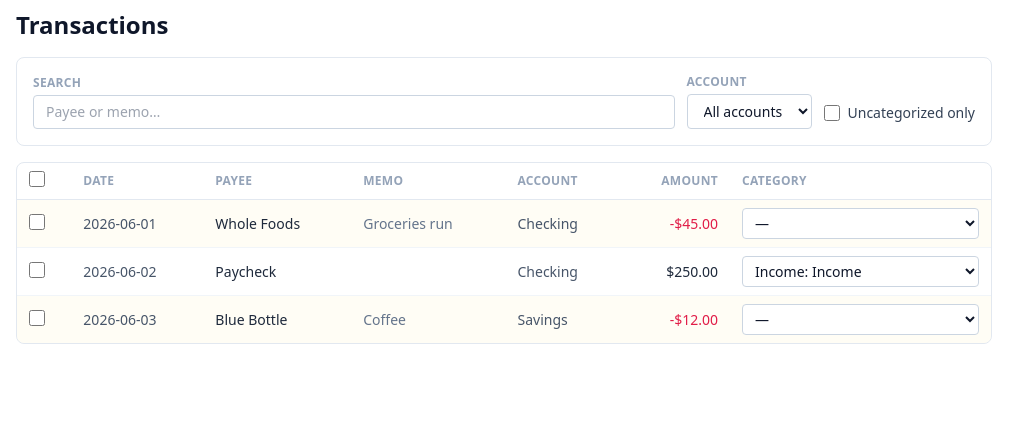
Test case: TransactionsPage › shows the bulk bar with the right count and applies a category to selected rows
expect the button "Apply to" is not shown: met
Step 1. Click the checkbox named "Select transaction t1" → (37, 222), box [29,214,45,230]
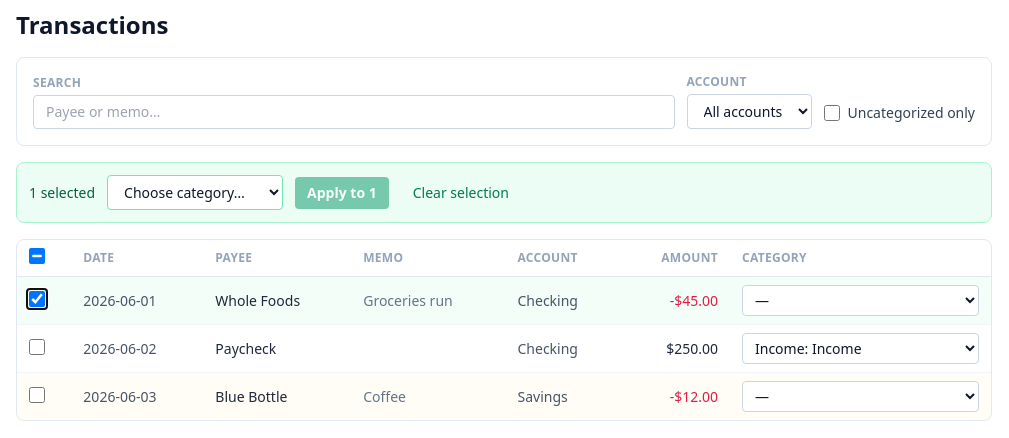
Step 2. Click the checkbox named "Select transaction t3" → (37, 394), box [29,386,45,402]
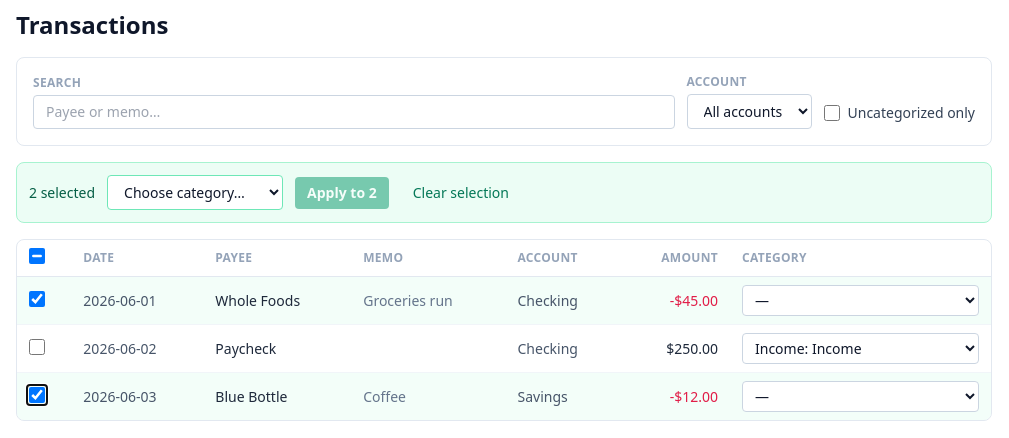
expect the text "2 selected" is shown: met, box [29,182,95,202]
# Pick a bulk category and apply.
Step 3. Select "Everyday: Groceries" in the dropdown named "Bulk category" → (195, 192), box [107,175,283,210]
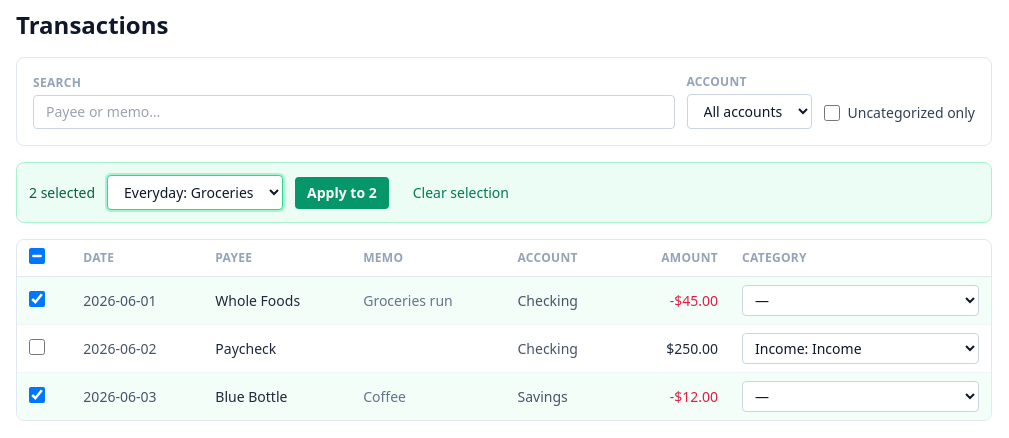
Step 4. Click the button "Apply to 2" → (342, 192), box [295,176,389,208]
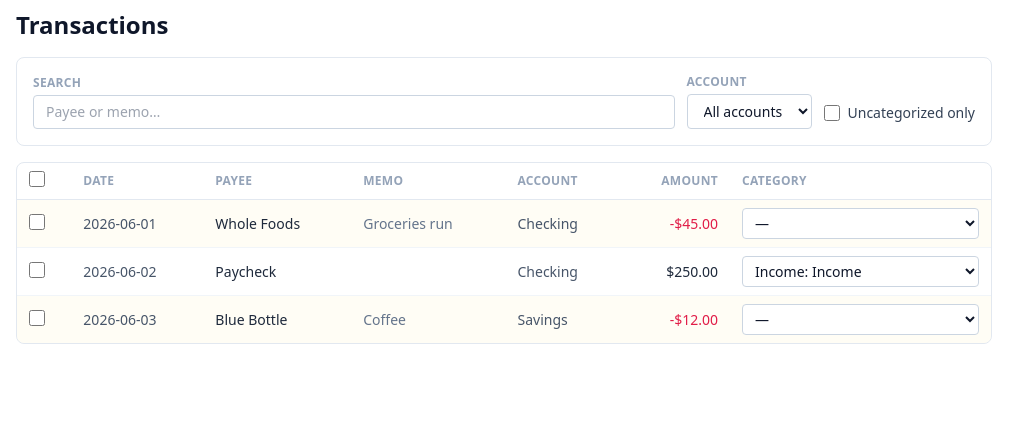
expect the text "2 selected" is gone: met
